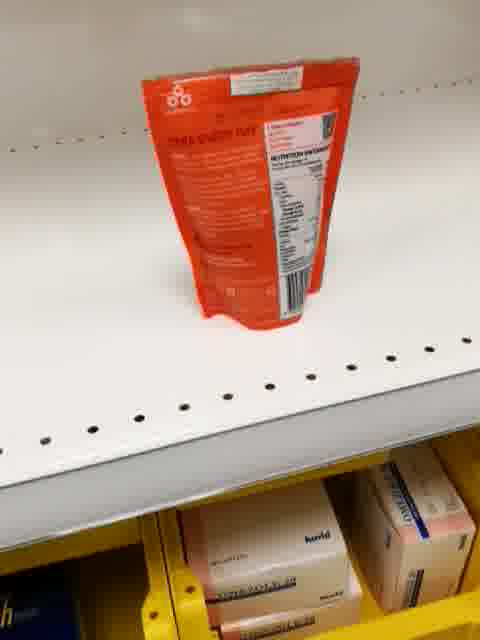whitechia: (139, 54, 362, 335)
